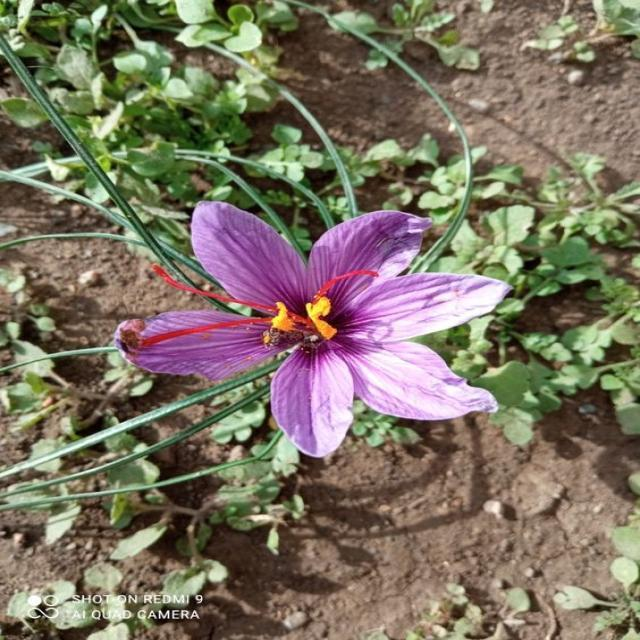Flower: (115, 202, 508, 456)
stigma: (151, 258, 276, 315), (112, 312, 265, 351), (308, 249, 379, 303)
